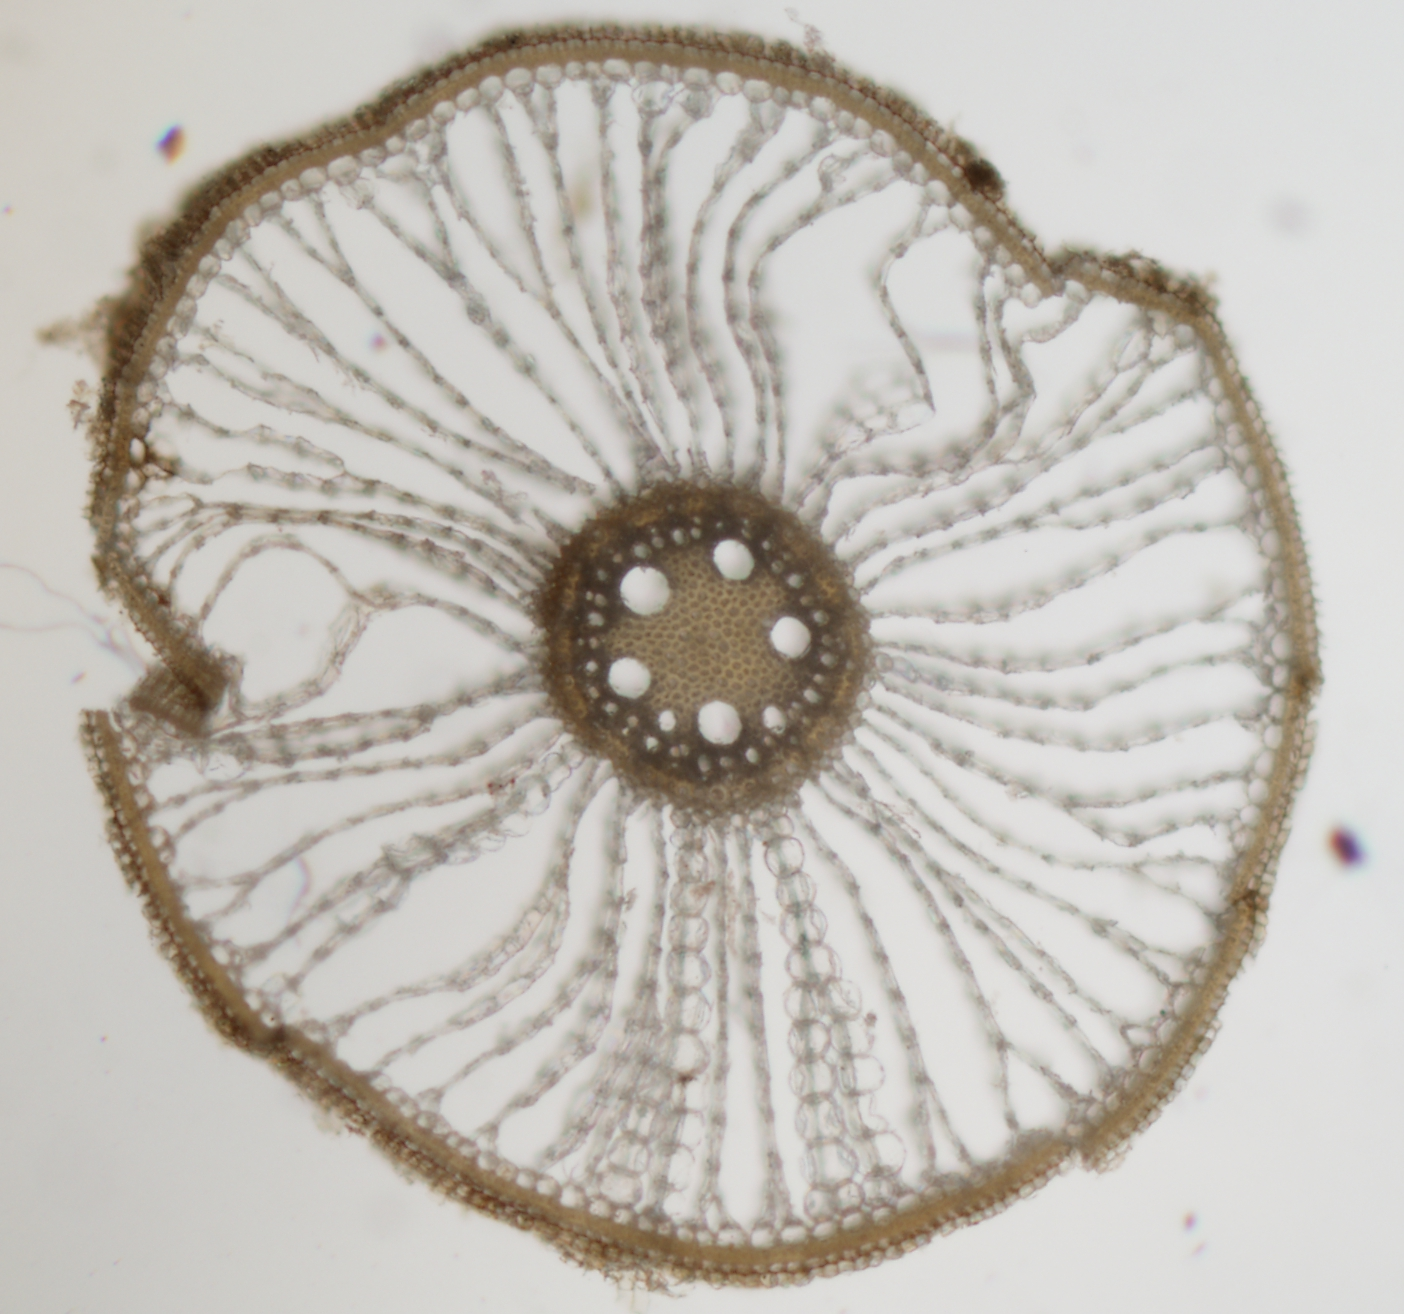lm: (619, 566, 672, 616), (696, 700, 742, 745), (608, 657, 652, 699), (771, 616, 813, 659), (712, 538, 754, 580)
